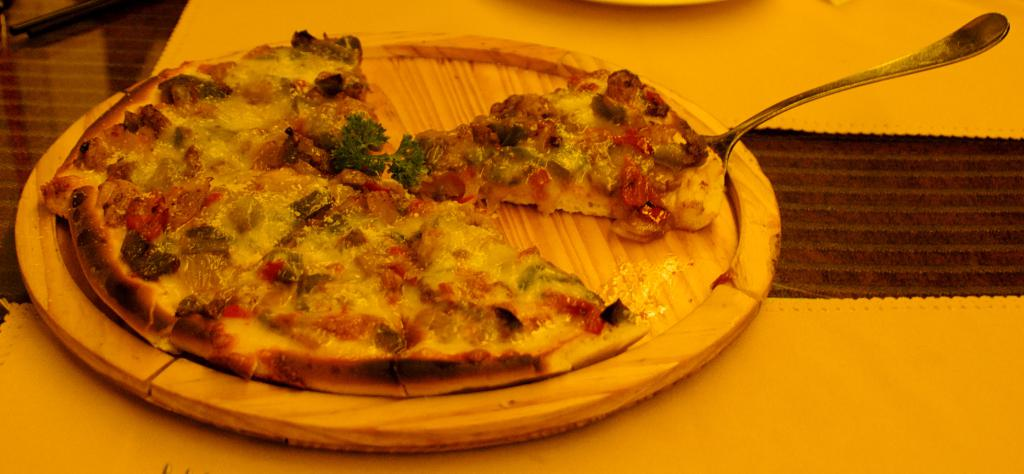Pizza: (20, 48, 834, 387)
